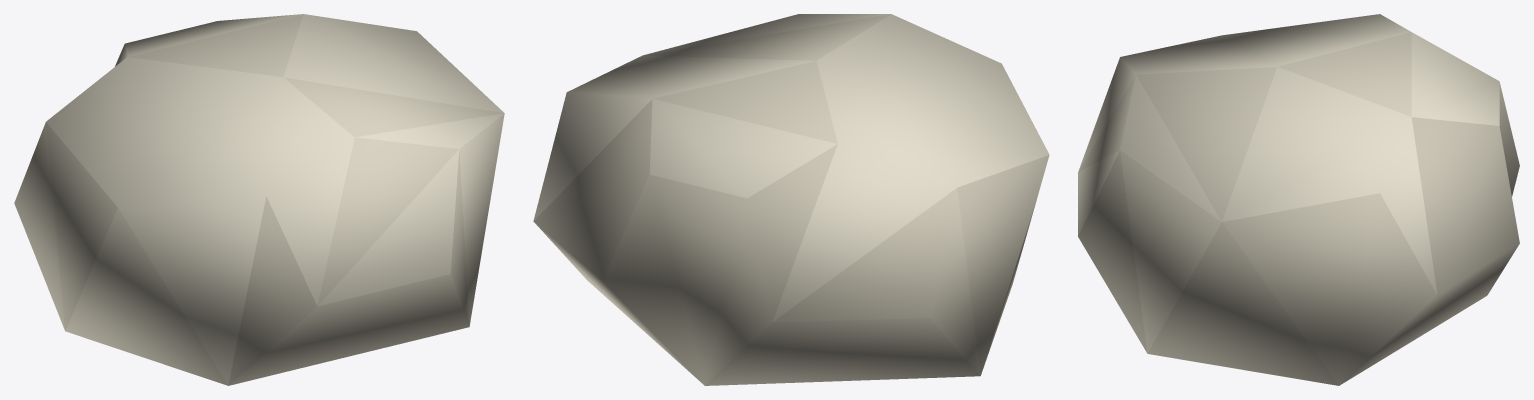
File: Trash.fbx
3 renders of one model, left to right at view 1: azimuth 30°, elevation 25°; view 2: azimuth 150°, elevation 25°; view 3: azimuth 270°, elevation 25°, orthographic. The views are drawn at different scales.
Visible parts, largest first — view 1: Trash; view 2: Trash; view 3: Trash.
Boxes of the visible parts, bbox=[...] form: Trash: bbox=[14, 14, 504, 385]; Trash: bbox=[533, 14, 1049, 385]; Trash: bbox=[1078, 14, 1519, 385].
Size of the model in its own units: 13.78 by 7.87 by 13.78.
